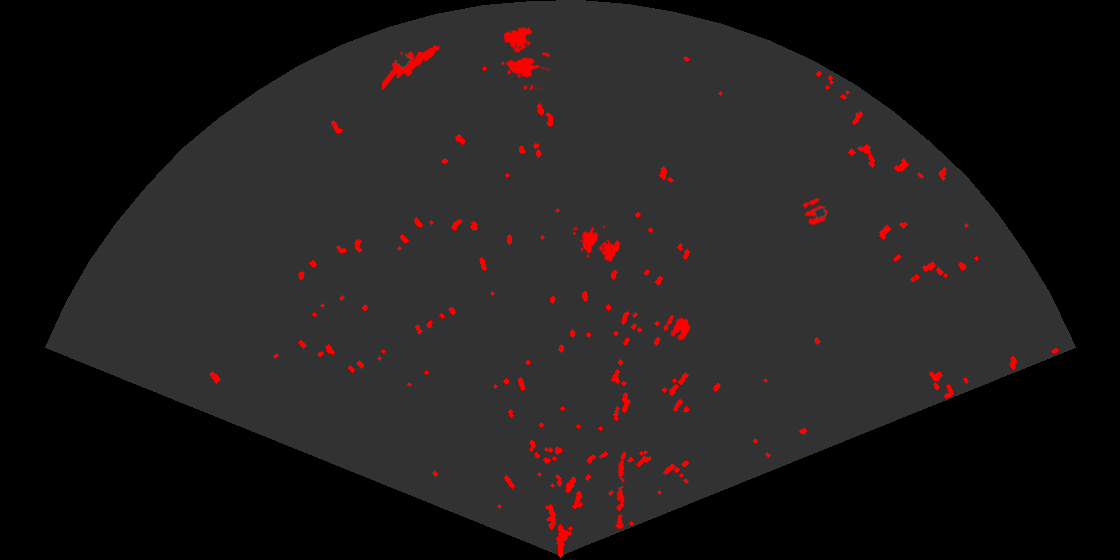ball: (801, 196, 830, 227), (662, 313, 692, 342)
cage: (500, 25, 550, 90), (573, 226, 622, 264)
chain: (613, 449, 628, 529)
frogman: (382, 43, 442, 90)
